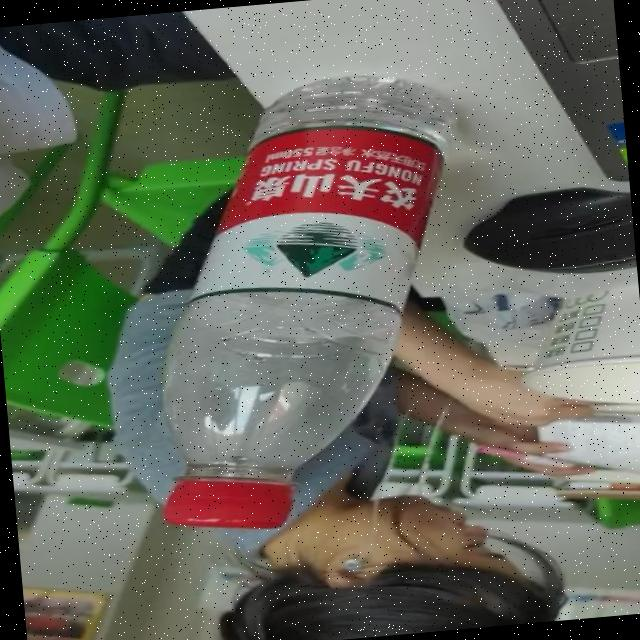bottle: (122, 66, 498, 538)
cap: (163, 463, 290, 538)
label: (195, 105, 428, 329)
